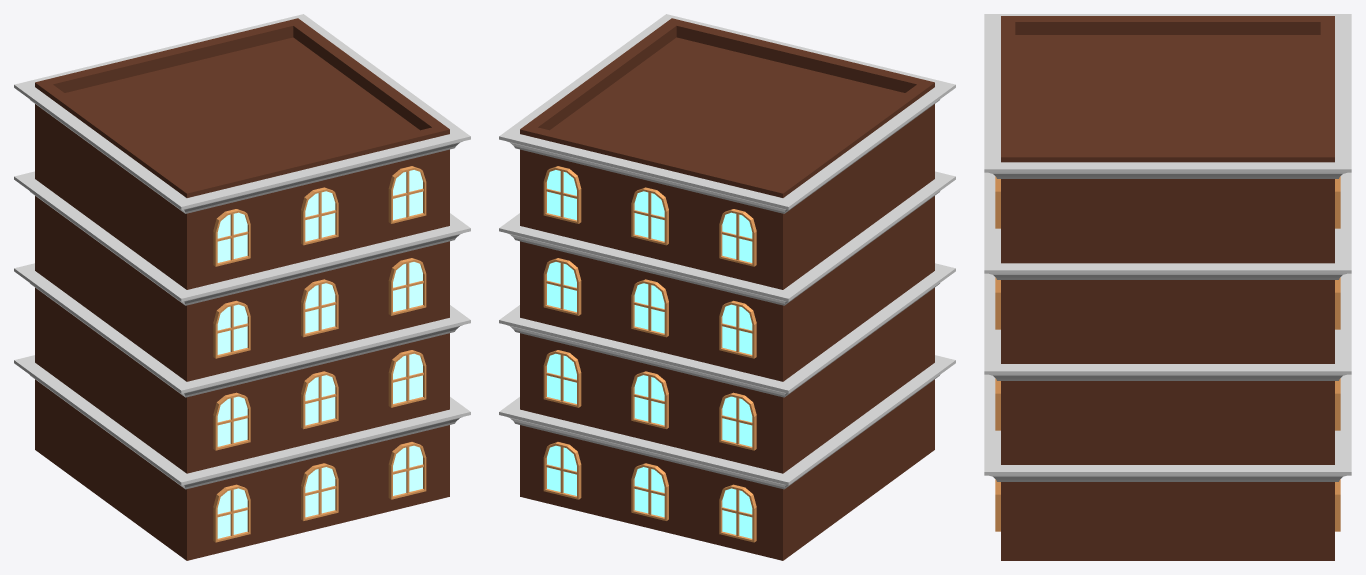
Rendered from building.fbx.
3 views of the same model, side by side, from view 1: azimuth 30°, elevation 25°; view 2: azimuth 150°, elevation 25°; view 3: azimuth 270°, elevation 25° (orthographic). The views are drawn at different scales.
Visible parts, largest first — view 1: Cube.004; view 2: Cube.004; view 3: Cube.004.
Boxes of the visible parts, x1,y1,x2,y2 form: Cube.004: [14, 14, 470, 560]; Cube.004: [499, 14, 955, 560]; Cube.004: [984, 14, 1351, 560].
Bounding box in the file's own units: 660 × 660 × 800.
